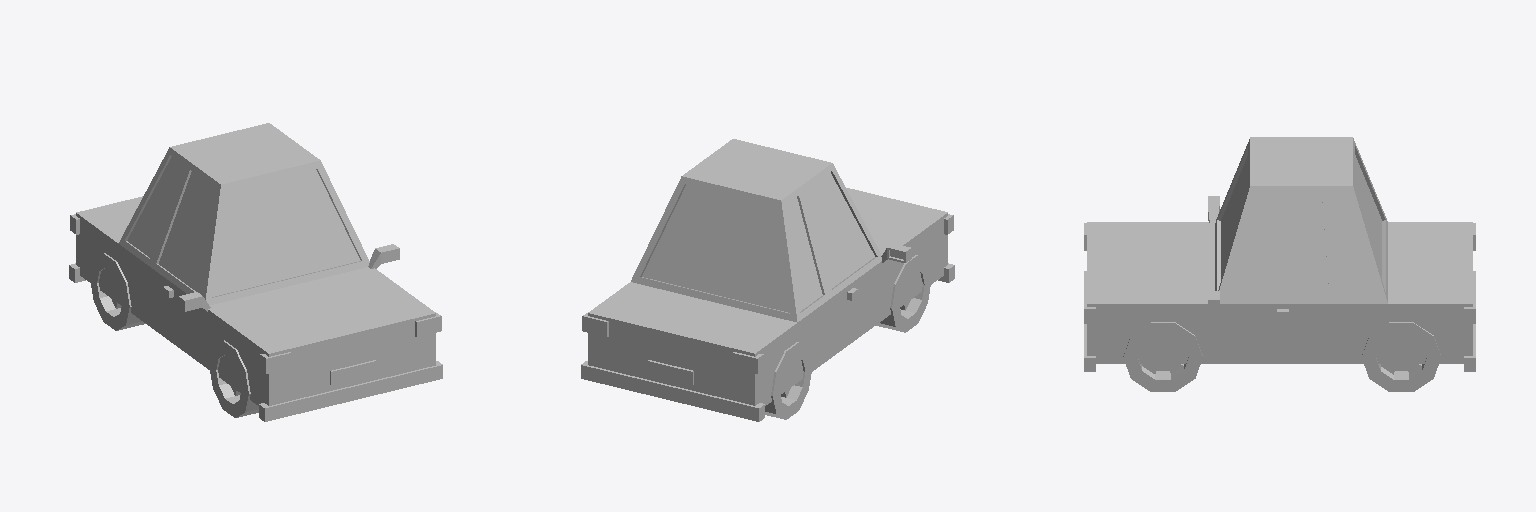
File: Coche1.obj
3 renders of one model, left to right at view 1: azimuth 30°, elevation 25°; view 2: azimuth 150°, elevation 25°; view 3: azimuth 270°, elevation 25°, orthographic.
Visible parts, largest first — view 1: Cube.009; view 2: Cube.009; view 3: Cube.009.
Part boxes in pixels (x1,y1,x2,y2): Cube.009: (69,123,442,421); Cube.009: (581,139,954,421); Cube.009: (1084,137,1475,391).
Bounding box in the file's own units: 2.57 × 2.16 × 4.06.